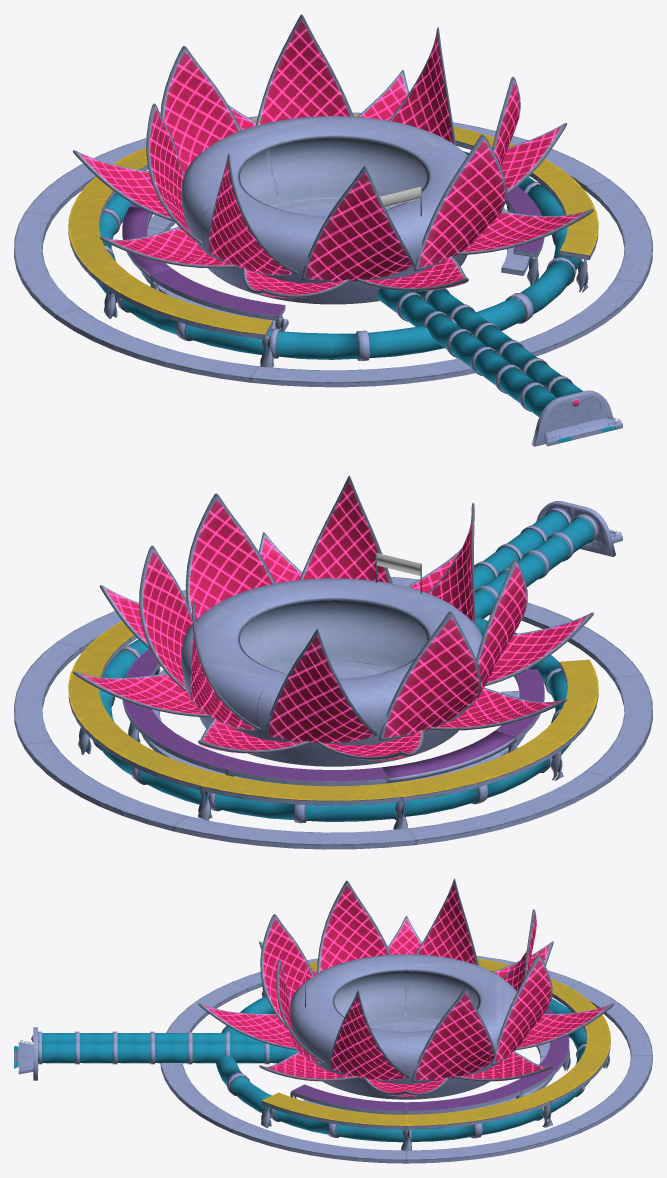
Rendered from SM_Stadium_01.fbx.
3 renders of one model, top to bottom at view 1: azimuth 30°, elevation 25°; view 2: azimuth 150°, elevation 25°; view 3: azimuth 270°, elevation 25°, orthographic. The views are drawn at different scales.
Parts seen in each view (by area): view 1: SM_Stadium_01, SM_StadiumGate_01; view 2: SM_Stadium_01, SM_StadiumGate_01; view 3: SM_Stadium_01, SM_StadiumGate_01.
Boxes of the visible parts, x1,y1,x2,y2 form: SM_Stadium_01: [14, 14, 652, 416]; SM_StadiumGate_01: [531, 390, 622, 446]; SM_Stadium_01: [14, 475, 652, 849]; SM_StadiumGate_01: [536, 501, 622, 556]; SM_Stadium_01: [38, 878, 652, 1163]; SM_StadiumGate_01: [14, 1027, 38, 1080].
Size of the model in its own units: 23664 by 7102 by 30667.
